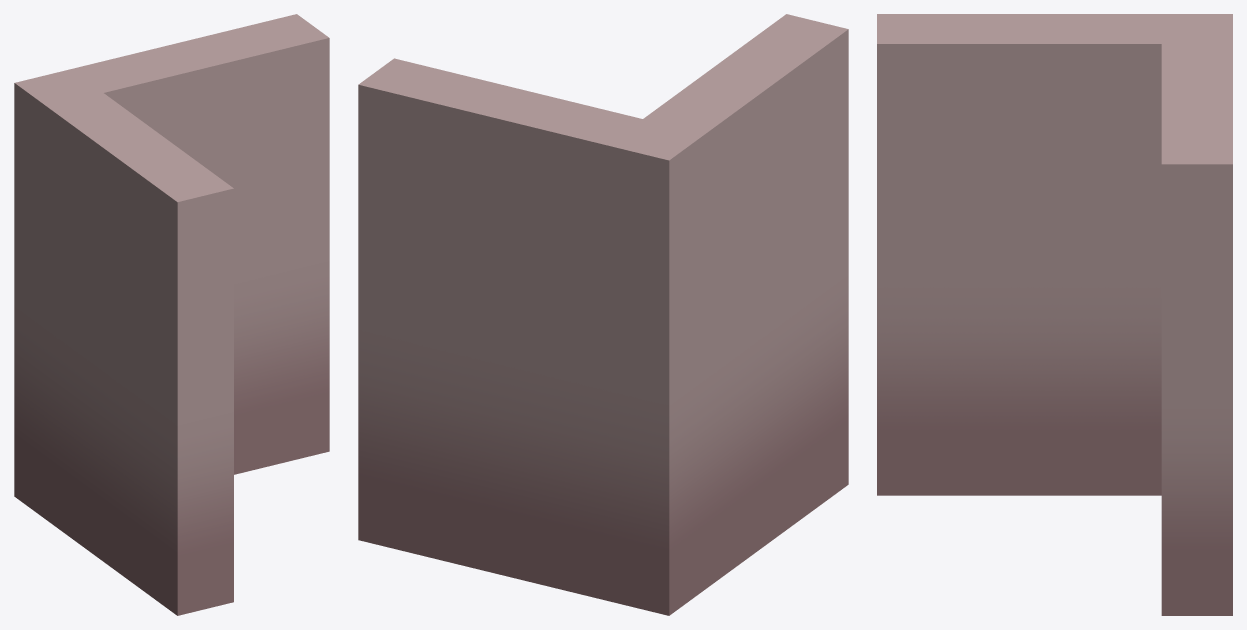
File: Wall_A_Angle.fbx
3 views of the same model, side by side, from view 1: azimuth 30°, elevation 25°; view 2: azimuth 150°, elevation 25°; view 3: azimuth 270°, elevation 25° (orthographic). The views are drawn at different scales.
Parts seen in each view (by area): view 1: Wall_A_Angle; view 2: Wall_A_Angle; view 3: Wall_A_Angle.
Part boxes in pixels (x1=…): Wall_A_Angle: x1=14, y1=14, x2=329, y2=615; Wall_A_Angle: x1=358, y1=14, x2=848, y2=615; Wall_A_Angle: x1=877, y1=14, x2=1232, y2=615.
Bounding box in the file's own units: 2.5 × 3.5 × 2.5.
Materials: 1 (1 with a texture image).
